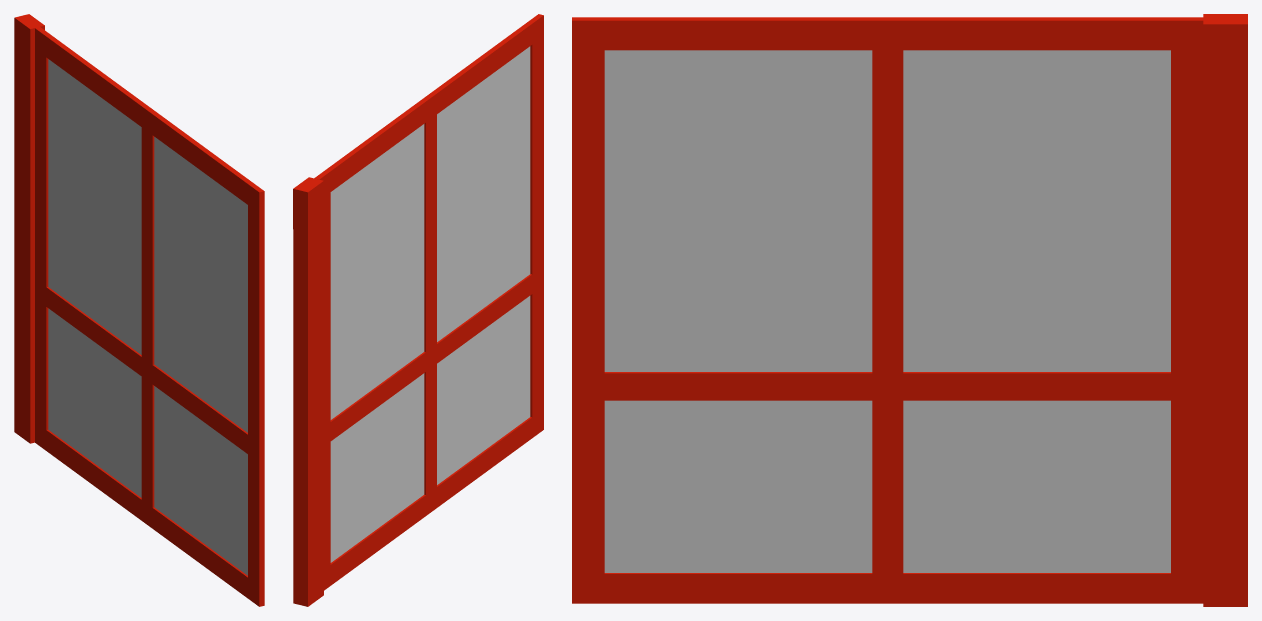
File: window1.fbx
The picture shows the model from 3 angles, left to right: view 1: azimuth 30°, elevation 25°; view 2: azimuth 150°, elevation 25°; view 3: azimuth 270°, elevation 25°; orthographic projection. The views are drawn at different scales.
Visible parts, largest first — view 1: Cube.363; view 2: Cube.363; view 3: Cube.363.
Boxes of the visible parts, x1=… form: Cube.363: x1=14, y1=14, x2=264, y2=606; Cube.363: x1=293, y1=14, x2=543, y2=606; Cube.363: x1=572, y1=14, x2=1247, y2=606.
Size of the model in its own units: 7.31 by 195 by 205.
